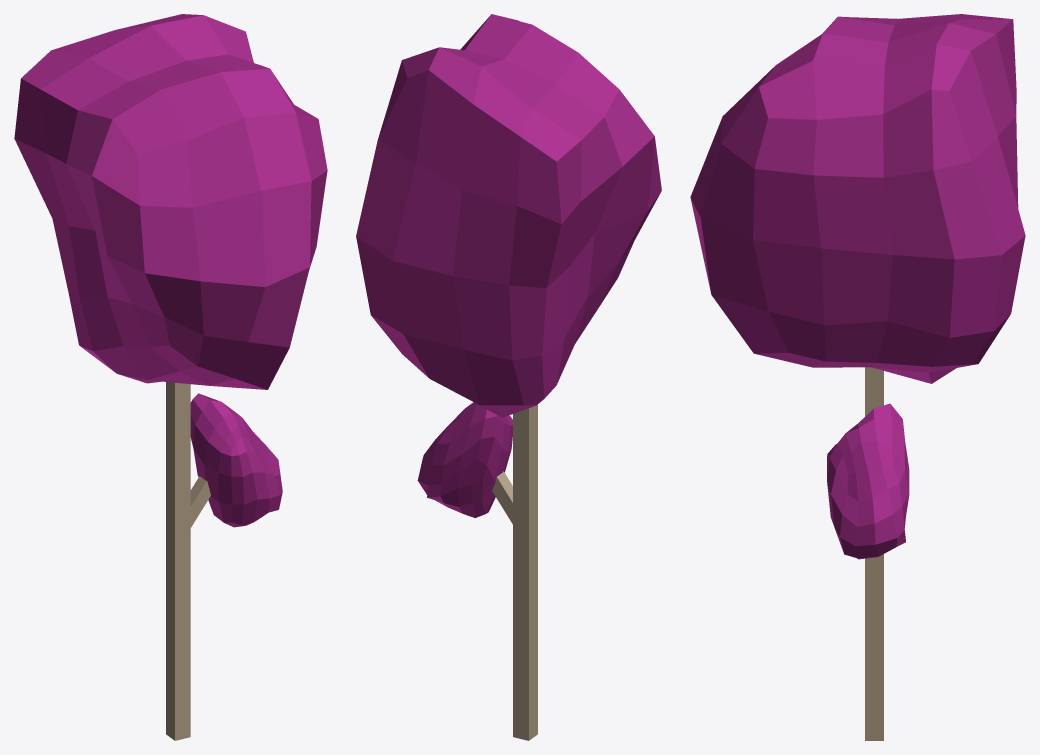
File: Cherry tree 2.fbx
The picture shows the model from 3 angles, left to right: view 1: azimuth 30°, elevation 25°; view 2: azimuth 150°, elevation 25°; view 3: azimuth 270°, elevation 25°; orthographic projection. The views are drawn at different scales.
Visible parts, largest first — view 1: Cube.002, Cube, Cube.003, Cube.001; view 2: Cube.002, Cube, Cube.003, Cube.001; view 3: Cube.002, Cube.003, Cube.
Part boxes in pixels (x1,y1,x2,y2): Cube.002: [14, 14, 327, 389]; Cube: [166, 382, 190, 740]; Cube.003: [190, 393, 282, 527]; Cube.001: [190, 476, 210, 527]; Cube.002: [356, 14, 661, 417]; Cube: [513, 404, 537, 740]; Cube.003: [417, 402, 512, 517]; Cube.001: [492, 471, 512, 524]; Cube.002: [690, 14, 1025, 383]; Cube.003: [827, 403, 909, 559]; Cube: [865, 367, 883, 740].
Size of the model in its own units: 324 by 930 by 392.
